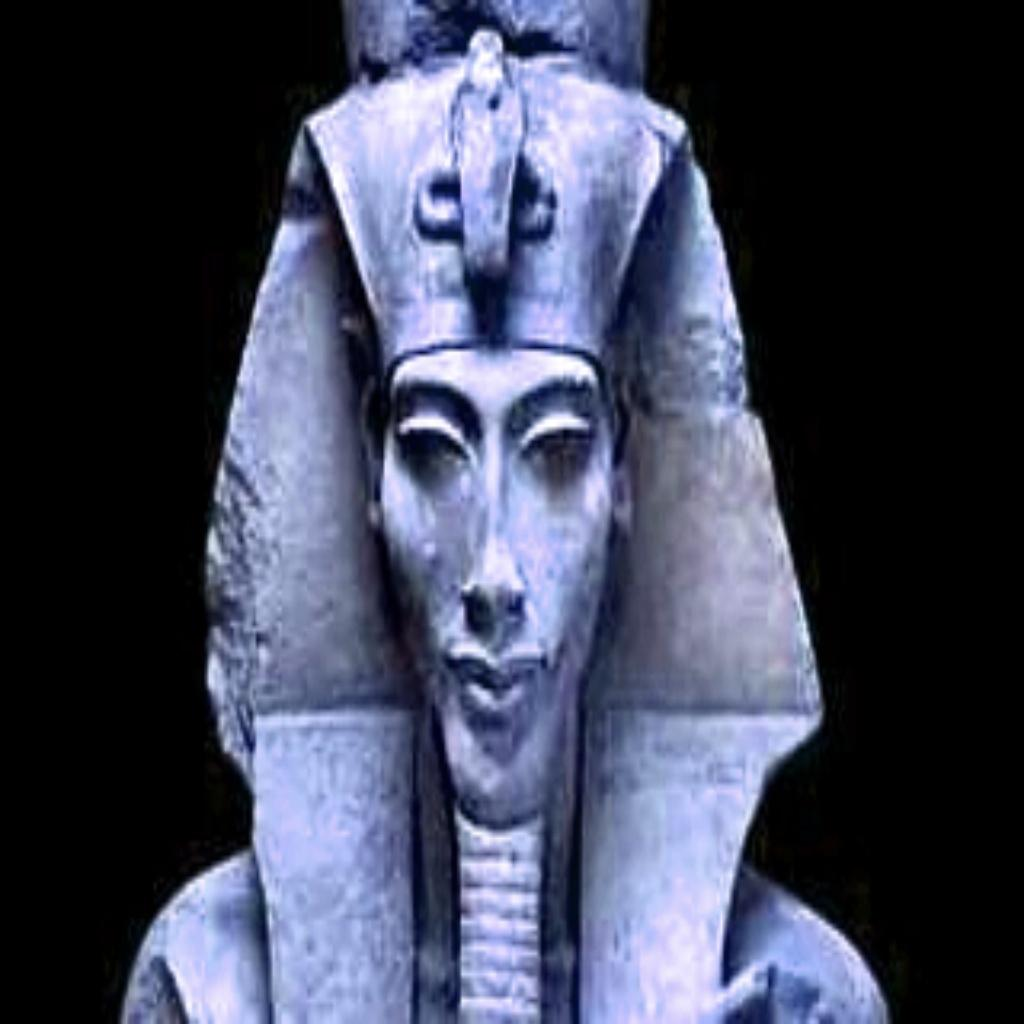Akhenaten: (198, 5, 828, 1019)
